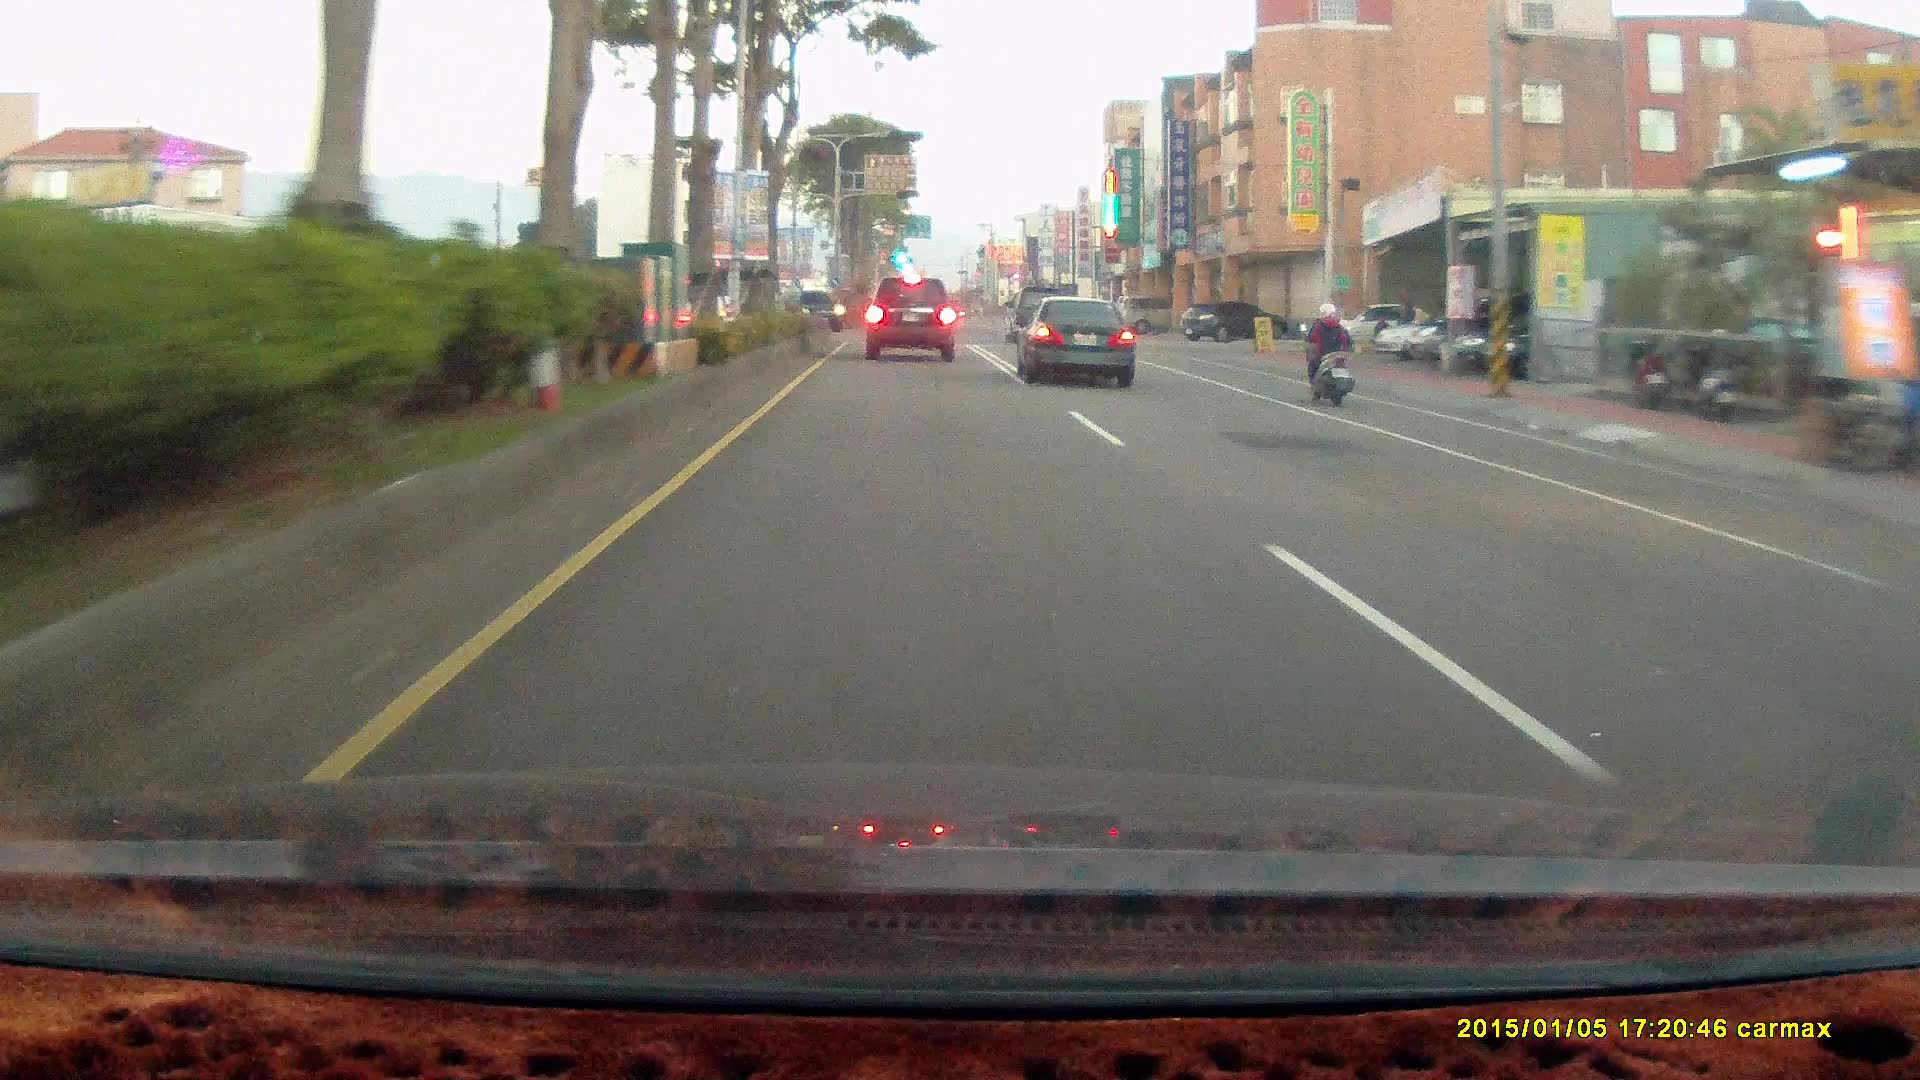rider: (1291, 291, 1369, 418), (1296, 299, 1354, 406)
vehicle: (1021, 290, 1141, 386), (1477, 307, 1633, 379), (1011, 294, 1132, 386), (1412, 293, 1541, 362), (1298, 296, 1448, 352), (868, 269, 963, 358), (864, 275, 955, 360), (1377, 306, 1486, 356), (1180, 299, 1289, 341), (1181, 300, 1276, 345), (1118, 291, 1198, 332), (786, 286, 844, 326)
